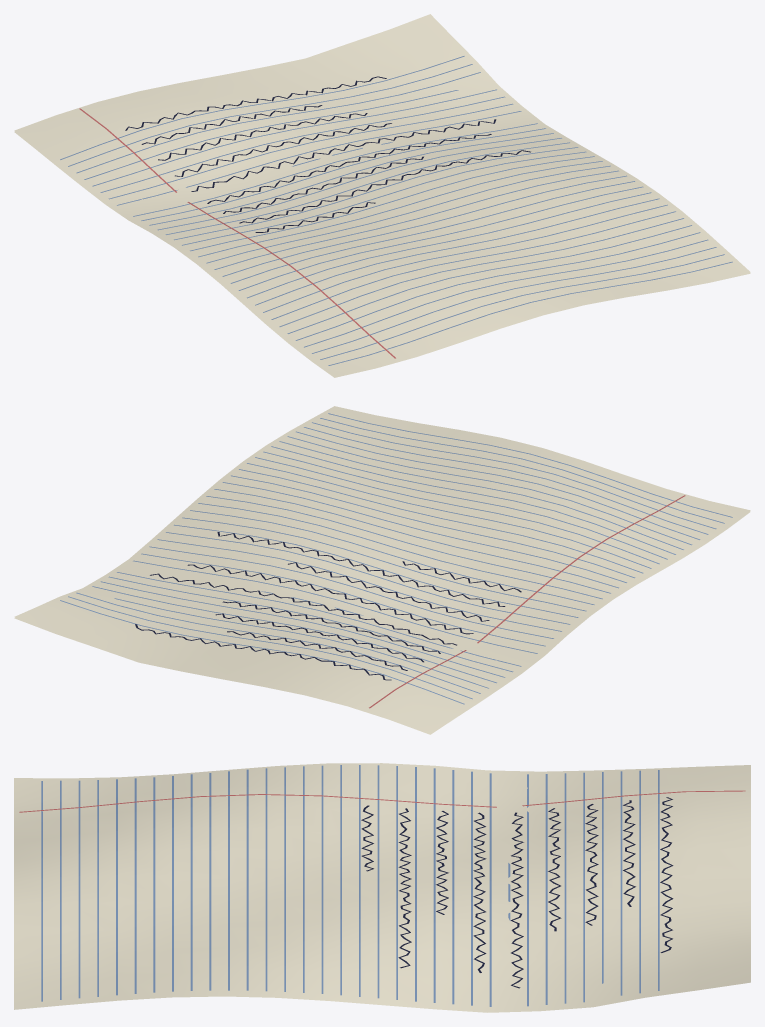
The model's file is item_note.glb.
3 views of the same model, one above another, from view 1: azimuth 30°, elevation 25°; view 2: azimuth 150°, elevation 25°; view 3: azimuth 270°, elevation 25° (orthographic). The views are drawn at different scales.
Parts seen in each view (by area): view 1: Note; view 2: Note; view 3: Note.
Boxes of the visible parts, x1,y1,x2,y2 form: Note: (14,14,750,377); Note: (14,406,750,734); Note: (14,763,750,1012).
Bounding box in the file's own units: 0.21 × 0.0137 × 0.28.
